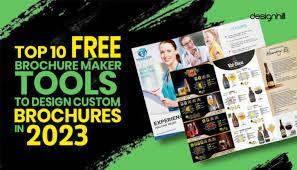paper: (131, 19, 297, 163)
